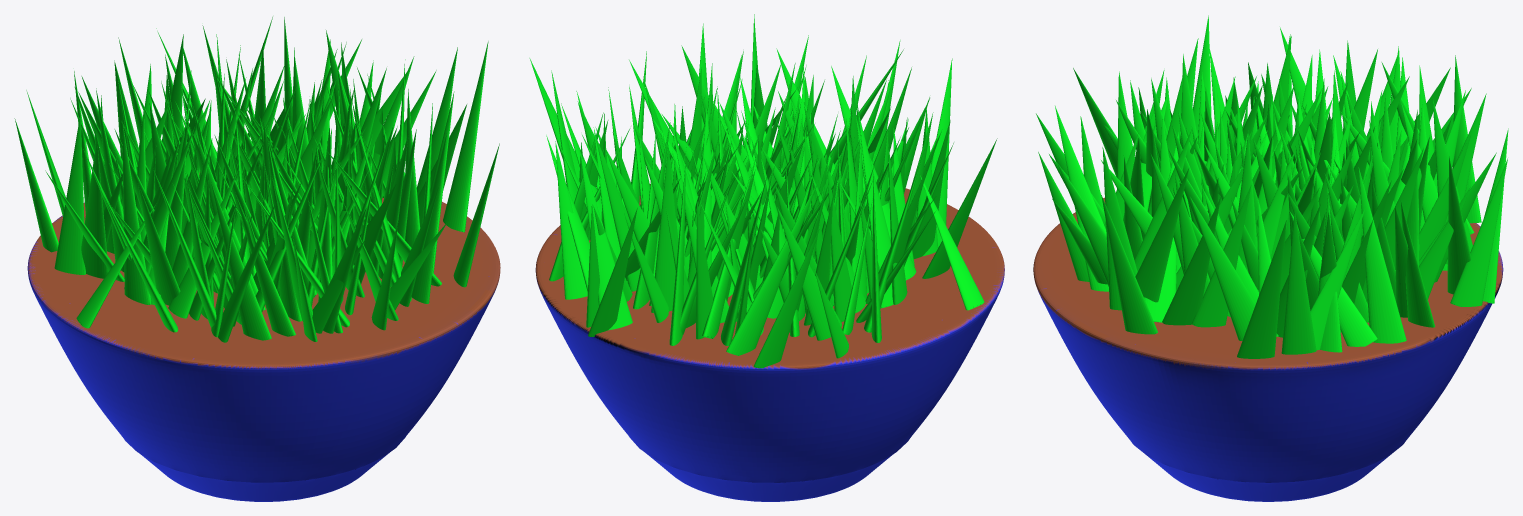
The model's file is Potted_Plant.fbx.
3 renders of one model, left to right at view 1: azimuth 30°, elevation 25°; view 2: azimuth 150°, elevation 25°; view 3: azimuth 270°, elevation 25°, orthographic.
Parts seen in each view (by area): view 1: Cylinder, Cylinder|Cone|Dupli|10, Cylinder|Cone|Dupli|13, Cylinder|Cone|Dupli|46, Cylinder|Cone|Dupli|133, Cylinder|Cone|Dupli|68, Cylinder|Cone|Dupli|41, Cylinder|Cone|Dupli|135, Cylinder|Cone|Dupli|67, Cylinder|Cone|Dupli|144, Cylinder|Cone|Dupli|12, Cylinder|Cone|Dupli|39 (+60 smaller); view 2: Cylinder, Cylinder|Cone|Dupli|23, Cylinder|Cone|Dupli|87, Cylinder|Cone|Dupli|22, Cylinder|Cone|Dupli|20, Cylinder|Cone|Dupli|17, Cylinder|Cone|Dupli|16, Cylinder|Cone|Dupli|82, Cylinder|Cone|Dupli|55, Cylinder|Cone|Dupli|11, Cylinder|Cone|Dupli|31, Cylinder|Cone|Dupli|71 (+50 smaller); view 3: Cylinder, Cylinder|Cone|Dupli|4, Cylinder|Cone|Dupli|10, Cylinder|Cone|Dupli|9, Cylinder|Cone|Dupli|19, Cylinder|Cone|Dupli|12, Cylinder|Cone|Dupli|35, Cylinder|Cone|Dupli|57, Cylinder|Cone|Dupli|64, Cylinder|Cone|Dupli|50, Cylinder|Cone|Dupli|17, Cylinder|Cone|Dupli|67 (+57 smaller).
Boxes of the visible parts, <box> form: Cylinder: <box>27,172,500,501</box>; Cylinder|Cone|Dupli|10: <box>443,41,488,232</box>; Cylinder|Cone|Dupli|13: <box>54,113,85,274</box>; Cylinder|Cone|Dupli|46: <box>122,121,151,304</box>; Cylinder|Cone|Dupli|133: <box>211,182,271,340</box>; Cylinder|Cone|Dupli|68: <box>81,139,108,278</box>; Cylinder|Cone|Dupli|41: <box>137,181,180,305</box>; Cylinder|Cone|Dupli|135: <box>235,193,295,336</box>; Cylinder|Cone|Dupli|67: <box>411,133,446,303</box>; Cylinder|Cone|Dupli|144: <box>218,199,277,342</box>; Cylinder|Cone|Dupli|12: <box>453,143,499,287</box>; Cylinder|Cone|Dupli|39: <box>168,169,238,318</box>; Cylinder: <box>535,184,1004,501</box>; Cylinder|Cone|Dupli|23: <box>726,182,818,355</box>; Cylinder|Cone|Dupli|87: <box>651,145,678,312</box>; Cylinder|Cone|Dupli|22: <box>555,141,587,299</box>; Cylinder|Cone|Dupli|20: <box>753,229,819,368</box>; Cylinder|Cone|Dupli|17: <box>580,151,632,330</box>; Cylinder|Cone|Dupli|16: <box>588,208,637,336</box>; Cylinder|Cone|Dupli|82: <box>777,207,841,340</box>; Cylinder|Cone|Dupli|55: <box>858,112,893,308</box>; Cylinder|Cone|Dupli|11: <box>920,175,984,310</box>; Cylinder|Cone|Dupli|31: <box>922,138,997,278</box>; Cylinder|Cone|Dupli|71: <box>827,171,851,322</box>; Cylinder: <box>1033,197,1503,501</box>; Cylinder|Cone|Dupli|4: <box>1358,167,1406,343</box>; Cylinder|Cone|Dupli|10: <box>1237,220,1286,358</box>; Cylinder|Cone|Dupli|9: <box>1281,210,1316,354</box>; Cylinder|Cone|Dupli|19: <box>1450,158,1507,306</box>; Cylinder|Cone|Dupli|12: <box>1101,195,1157,334</box>; Cylinder|Cone|Dupli|35: <box>1189,196,1255,340</box>; Cylinder|Cone|Dupli|57: <box>1162,197,1220,325</box>; Cylinder|Cone|Dupli|64: <box>1135,168,1188,302</box>; Cylinder|Cone|Dupli|50: <box>1191,185,1251,327</box>; Cylinder|Cone|Dupli|17: <box>1447,156,1471,294</box>; Cylinder|Cone|Dupli|67: <box>1102,147,1137,310</box>.
Size of the model in its own units: 938 by 757 by 886.
